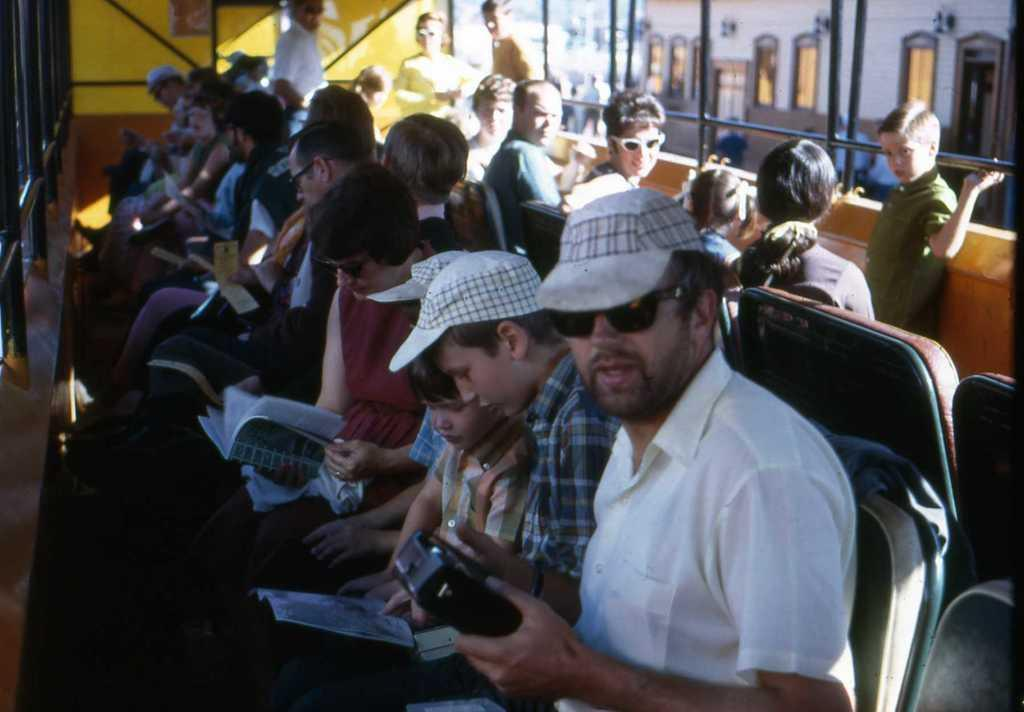Hat: (532, 187, 706, 311), (388, 246, 544, 372), (144, 66, 180, 96)
